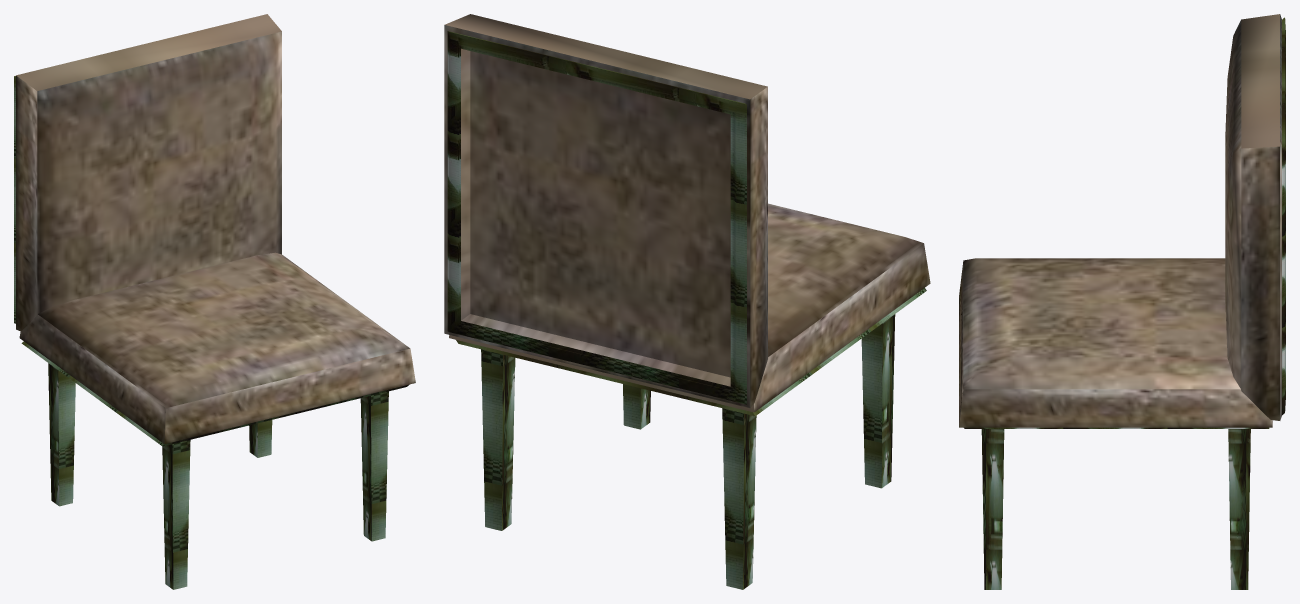
File: sillita.fbx
3 renders of one model, left to right at view 1: azimuth 30°, elevation 25°; view 2: azimuth 150°, elevation 25°; view 3: azimuth 270°, elevation 25°, orthographic. The views are drawn at different scales.
Parts seen in each view (by area): view 1: sillita; view 2: sillita; view 3: sillita.
Boxes of the visible parts, x1,y1,x2,y2 form: sillita: [14, 14, 415, 589]; sillita: [444, 14, 930, 589]; sillita: [959, 14, 1285, 589].
Size of the model in its own units: 111 by 177 by 116.
